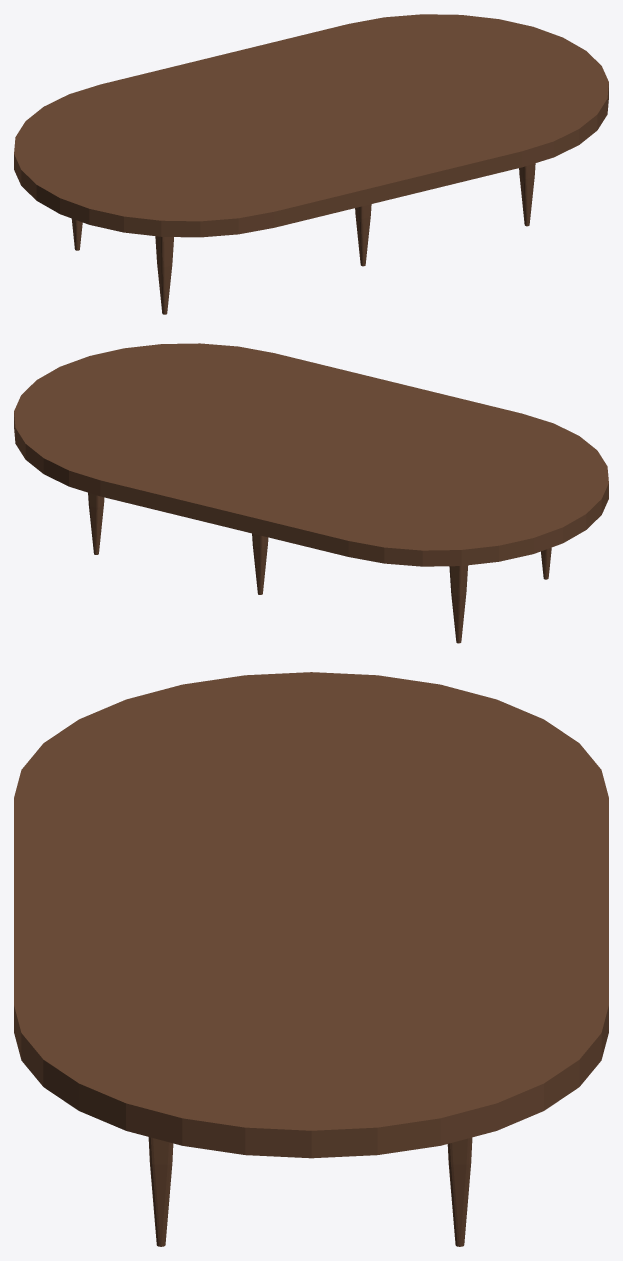
File: big_table.fbx
3 views of the same model, one above another, from view 1: azimuth 30°, elevation 25°; view 2: azimuth 150°, elevation 25°; view 3: azimuth 270°, elevation 25° (orthographic). The views are drawn at different scales.
Parts seen in each view (by area): view 1: Meeting table, Cube.212, Cube.218, Cube.216; view 2: Meeting table, Cube.215, Cube.219, Cube.217; view 3: Meeting table, Cube.218, Cube.219.
Boxes of the visible parts, x1=… form: Meeting table: x1=14, y1=14, x2=608, y2=237; Cube.212: x1=155, y1=236, x2=173, y2=314; Cube.218: x1=519, y1=163, x2=535, y2=226; Cube.216: x1=355, y1=204, x2=371, y2=266; Meeting table: x1=14, y1=343, x2=608, y2=566; Cube.215: x1=449, y1=565, x2=468, y2=643; Cube.219: x1=88, y1=492, x2=104, y2=554; Cube.217: x1=252, y1=533, x2=268, y2=594; Meeting table: x1=14, y1=672, x2=608, y2=1158; Cube.218: x1=148, y1=1137, x2=173, y2=1246; Cube.219: x1=447, y1=1137, x2=472, y2=1246.
Size of the model in its own units: 2.86 by 0.5824 by 1.57.
